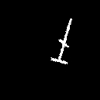double_crochet: (52, 19, 71, 63)
